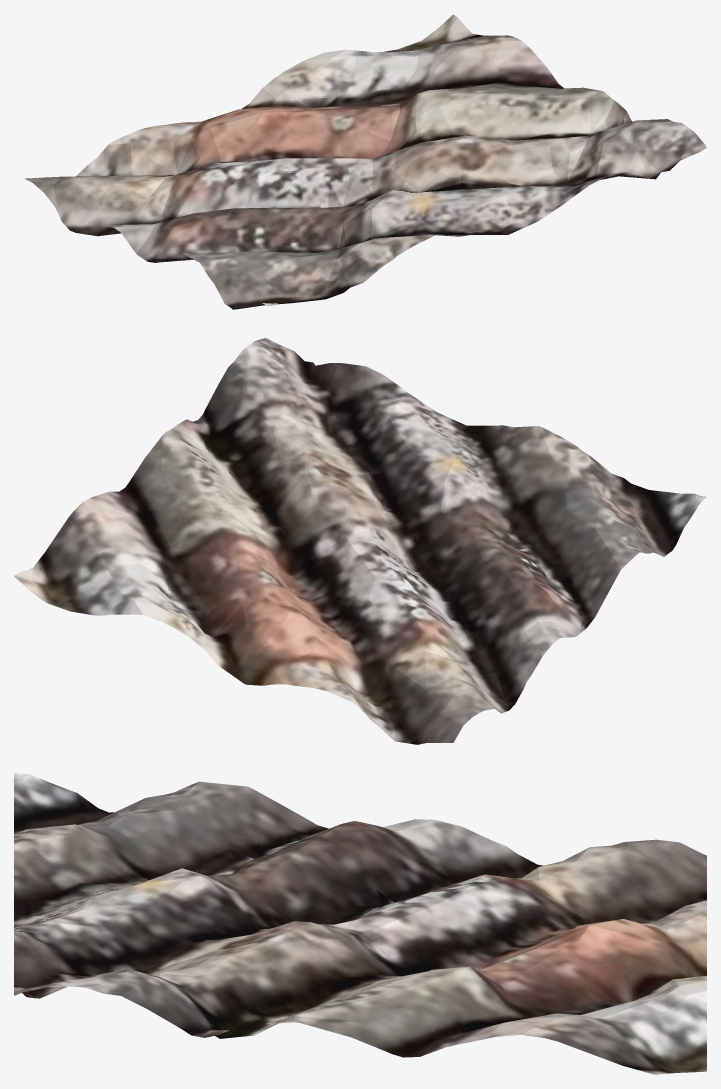
3 renders of one model, top to bottom at view 1: azimuth 30°, elevation 25°; view 2: azimuth 150°, elevation 25°; view 3: azimuth 270°, elevation 25°, orthographic. The views are drawn at different scales.
Bounding box in the file's own units: 0.8374 × 0.2392 × 0.8373.
3 materials, 3 textured.
